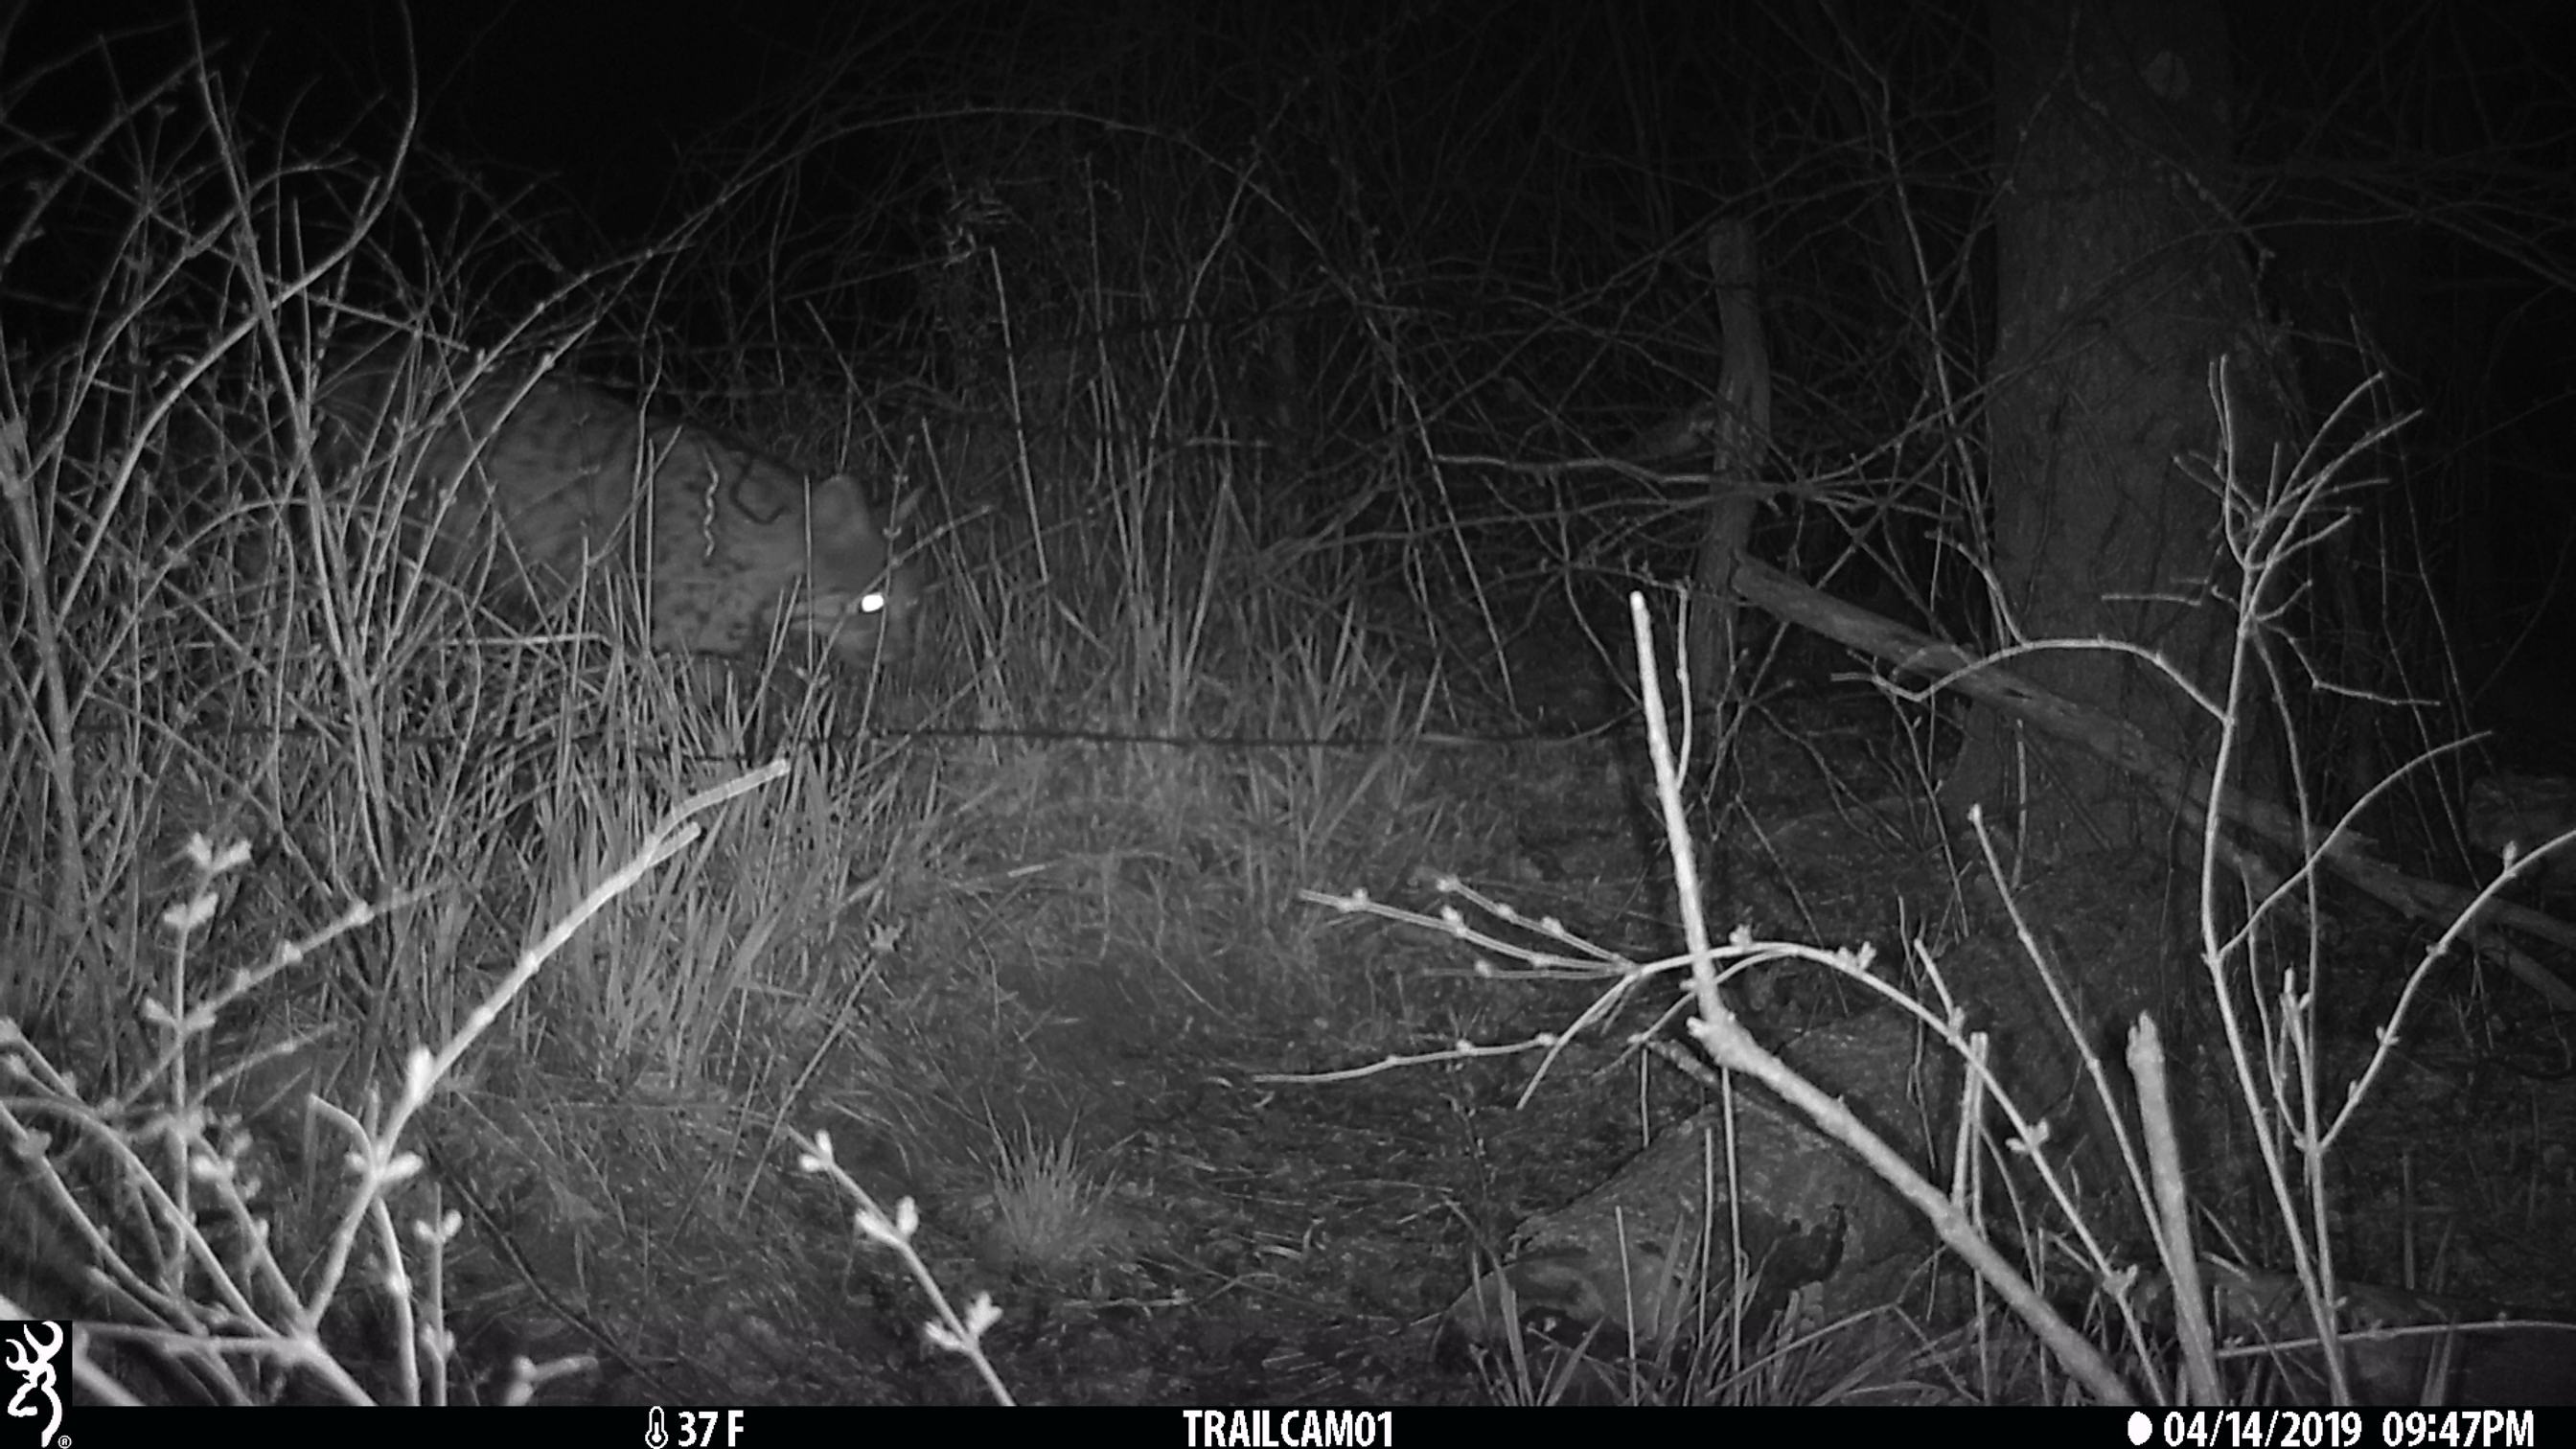Bobcat: (405, 386, 911, 725)
